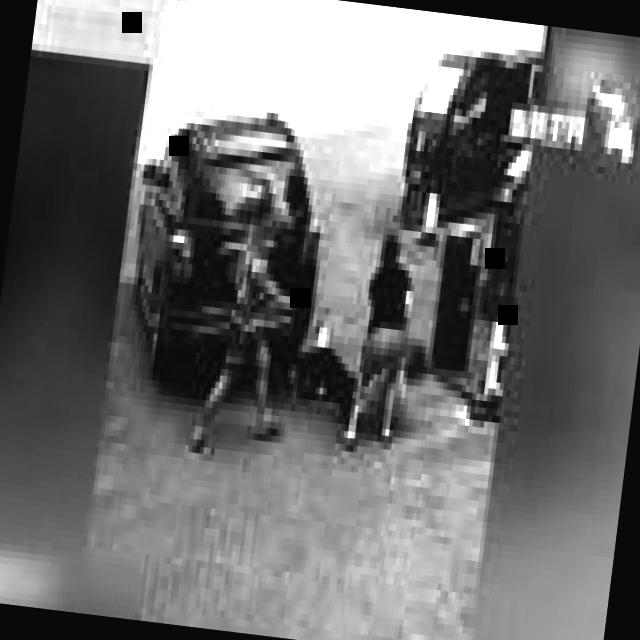Fall-Detected: (278, 296, 434, 432)
